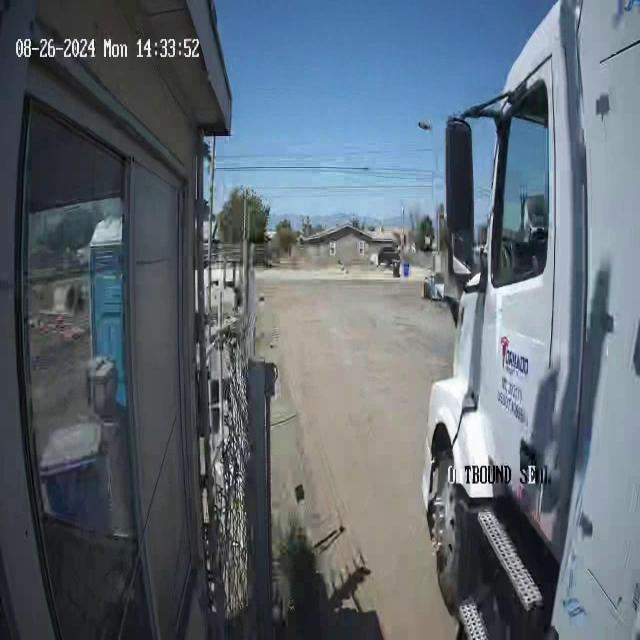TRUCK_OUT: (421, 1, 639, 638)
